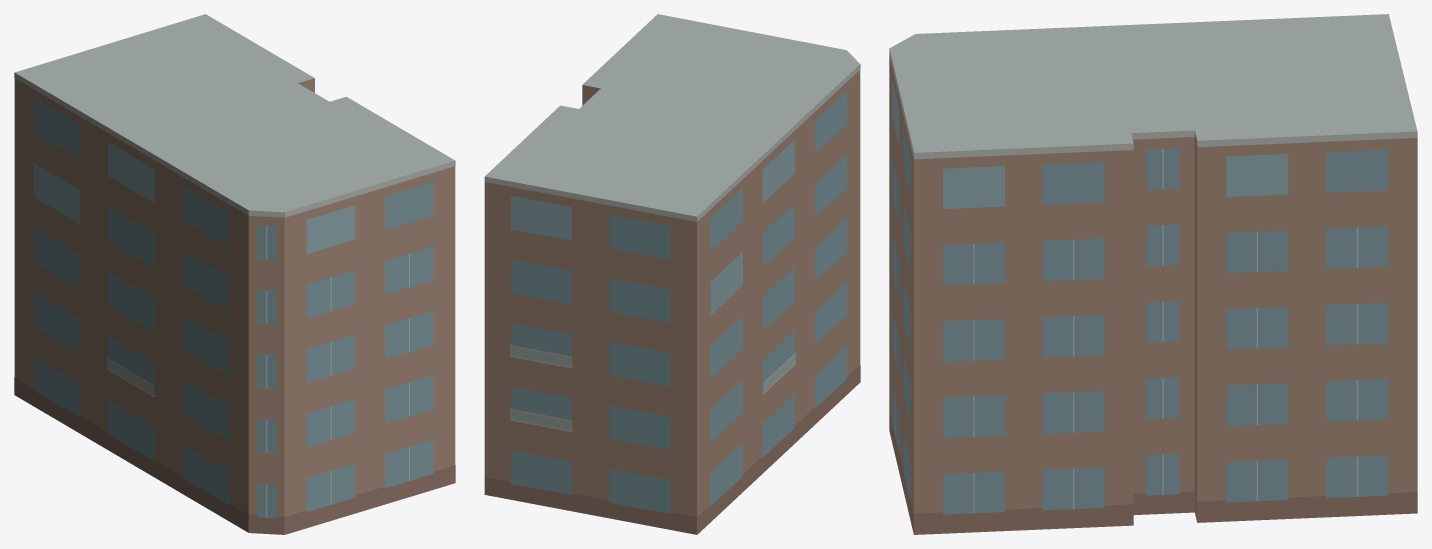
File: survey-upis-32663614.glb
3 views of the same model, side by side, from view 1: azimuth 30°, elevation 25°; view 2: azimuth 150°, elevation 25°; view 3: azimuth 270°, elevation 25° (orthographic). The views are drawn at different scales.
Parts seen in each view (by area): view 1: survey-upis-32663614.tmp; view 2: survey-upis-32663614.tmp; view 3: survey-upis-32663614.tmp.
Boxes of the visible parts, x1=… form: survey-upis-32663614.tmp: x1=14, y1=14, x2=455, y2=534; survey-upis-32663614.tmp: x1=484, y1=14, x2=860, y2=534; survey-upis-32663614.tmp: x1=889, y1=14, x2=1417, y2=534.
Bounding box in the file's own units: 11.36 × 14.55 × 18.25.
